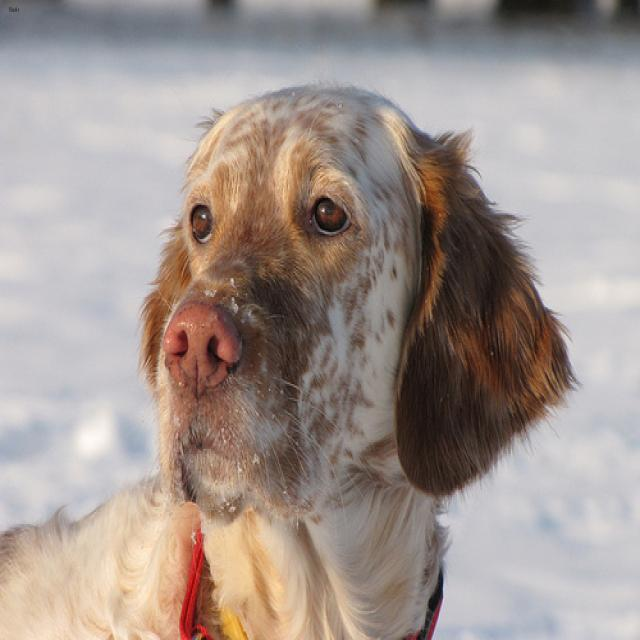dog-english_setter: (1, 70, 586, 637)
